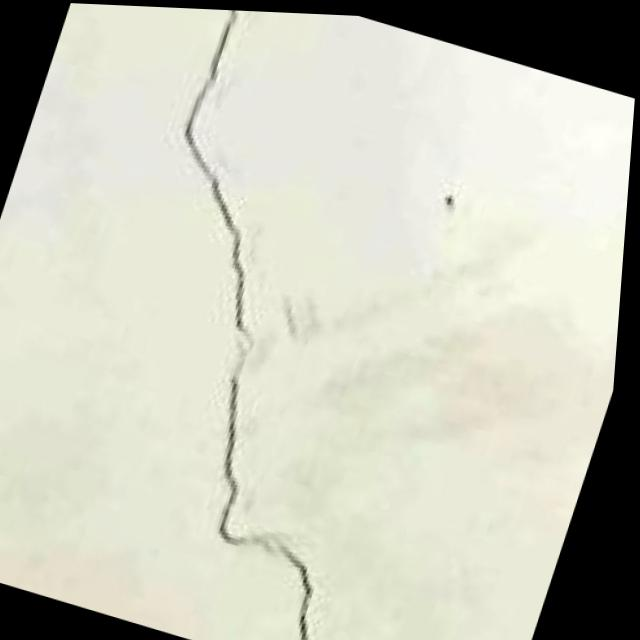Crack: (17, 2, 534, 640)
